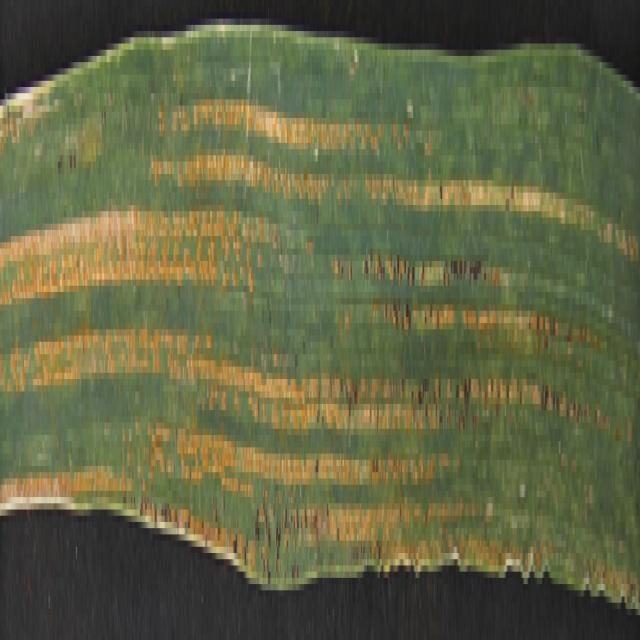leaf rust: (1, 105, 636, 540)
